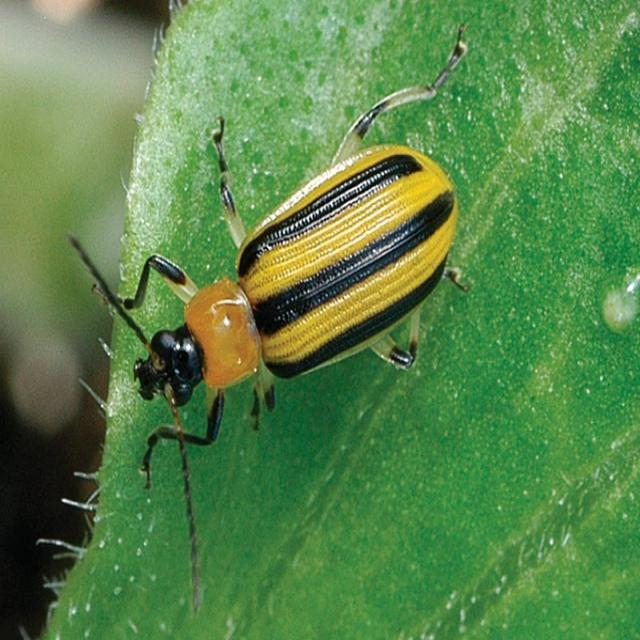cucumber_beetle: (51, 44, 483, 597)
